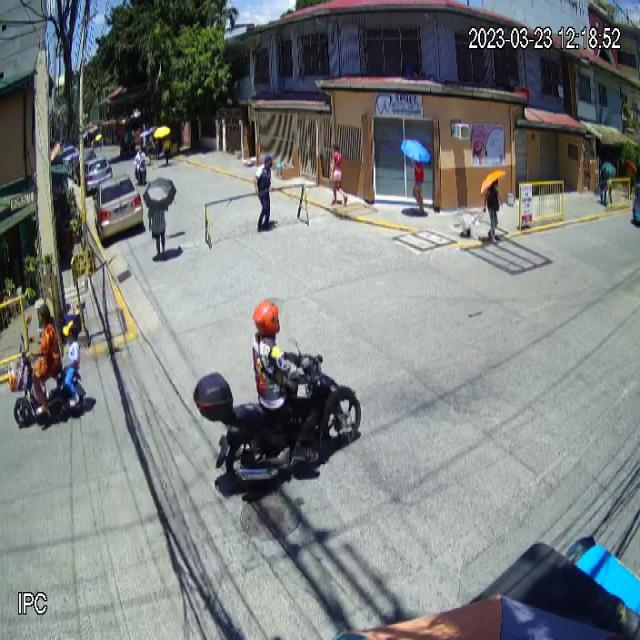Car: (93, 173, 143, 244)
Motorcycle: (192, 336, 362, 500)
